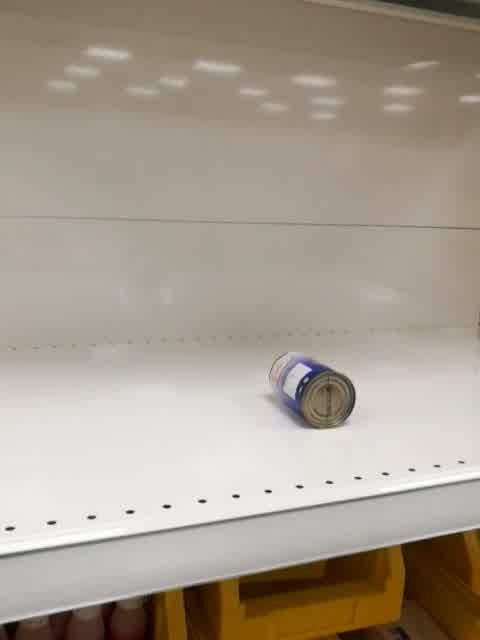sardine: (267, 351, 357, 431)
